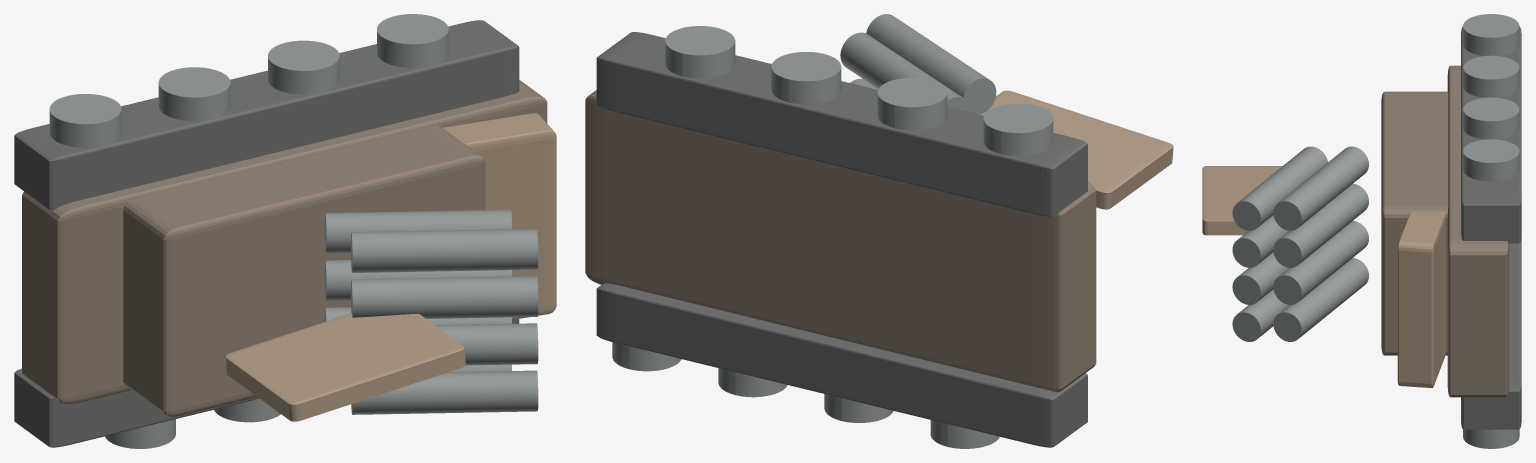
Rendered from d-u15-dominion-mobile-sam-lod2.glb.
3 views of the same model, side by side, from view 1: azimuth 30°, elevation 25°; view 2: azimuth 150°, elevation 25°; view 3: azimuth 270°, elevation 25° (orthographic). The views are drawn at different scales.
Visible parts, largest first — view 1: upper_hull, chassis_track_1, chassis_lower, sam_radar_array, chassis_glacis, sam_tube_8, sam_tube_7, chassis_track_-1, sam_tube_5, sam_tube_4, chassis_roadwheel_1_2, chassis_roadwheel_1_0 (+7 smaller); view 2: chassis_lower, chassis_track_1, chassis_track_-1, sam_radar_array, sam_tube_8, chassis_roadwheel_1_2, chassis_roadwheel_1_6, chassis_roadwheel_1_0, chassis_roadwheel_1_4, sam_tube_4, chassis_roadwheel_-1_5, chassis_roadwheel_-1_1 (+2 smaller); view 3: chassis_lower, upper_hull, chassis_glacis, chassis_track_1, chassis_track_-1, sam_tube_4, sam_radar_array, sam_tube_3, sam_tube_1, sam_tube_2, sam_tube_8, chassis_roadwheel_1_4 (+7 smaller).
Boxes of the visible parts, left/top/right/bottom form: upper_hull: left=123, top=125, right=485, bottom=416; chassis_track_1: left=14, top=20, right=519, bottom=210; chassis_lower: left=22, top=80, right=547, bottom=404; sam_radar_array: left=225, top=313, right=465, bottom=421; chassis_glacis: left=443, top=113, right=556, bottom=319; sam_tube_8: left=351, top=228, right=538, bottom=272; sam_tube_7: left=351, top=276, right=538, bottom=318; chassis_track_-1: left=14, top=319, right=519, bottom=447; sam_tube_5: left=351, top=370, right=538, bottom=414; sam_tube_4: left=324, top=209, right=511, bottom=253; chassis_roadwheel_1_2: left=158, top=67, right=230, bottom=121; chassis_roadwheel_1_0: left=49, top=94, right=121, bottom=147; chassis_lower: left=585, top=90, right=1096, bottom=392; chassis_track_1: left=596, top=32, right=1087, bottom=216; chassis_track_-1: left=596, top=283, right=1087, bottom=447; sam_radar_array: left=980, top=90, right=1173, bottom=209; sam_tube_8: left=866, top=14, right=996, bottom=114; chassis_roadwheel_1_2: left=877, top=77, right=947, bottom=130; chassis_roadwheel_1_6: left=665, top=26, right=735, bottom=78; chassis_roadwheel_1_0: left=983, top=103, right=1053, bottom=156; chassis_roadwheel_1_4: left=771, top=52, right=841, bottom=104; sam_tube_4: left=840, top=32, right=970, bottom=112; chassis_roadwheel_-1_5: left=718, top=368, right=787, bottom=397; chassis_roadwheel_-1_1: left=930, top=420, right=999, bottom=448; chassis_lower: left=1447, top=65, right=1509, bottom=397; upper_hull: left=1381, top=91, right=1448, bottom=355; chassis_glacis: left=1397, top=211, right=1445, bottom=388; chassis_track_1: left=1461, top=26, right=1521, bottom=243; chassis_track_-1: left=1461, top=236, right=1521, bottom=429; sam_tube_4: left=1273, top=146, right=1368, bottom=230; sam_radar_array: left=1202, top=166, right=1282, bottom=235; sam_tube_3: left=1273, top=183, right=1368, bottom=267; sam_tube_1: left=1273, top=258, right=1368, bottom=341; sam_tube_2: left=1273, top=221, right=1368, bottom=304; sam_tube_8: left=1232, top=146, right=1327, bottom=230; chassis_roadwheel_1_4: left=1463, top=97, right=1519, bottom=139.
Size of what is drawn, in the model's own units: 6.4 by 4.22 by 4.61.
